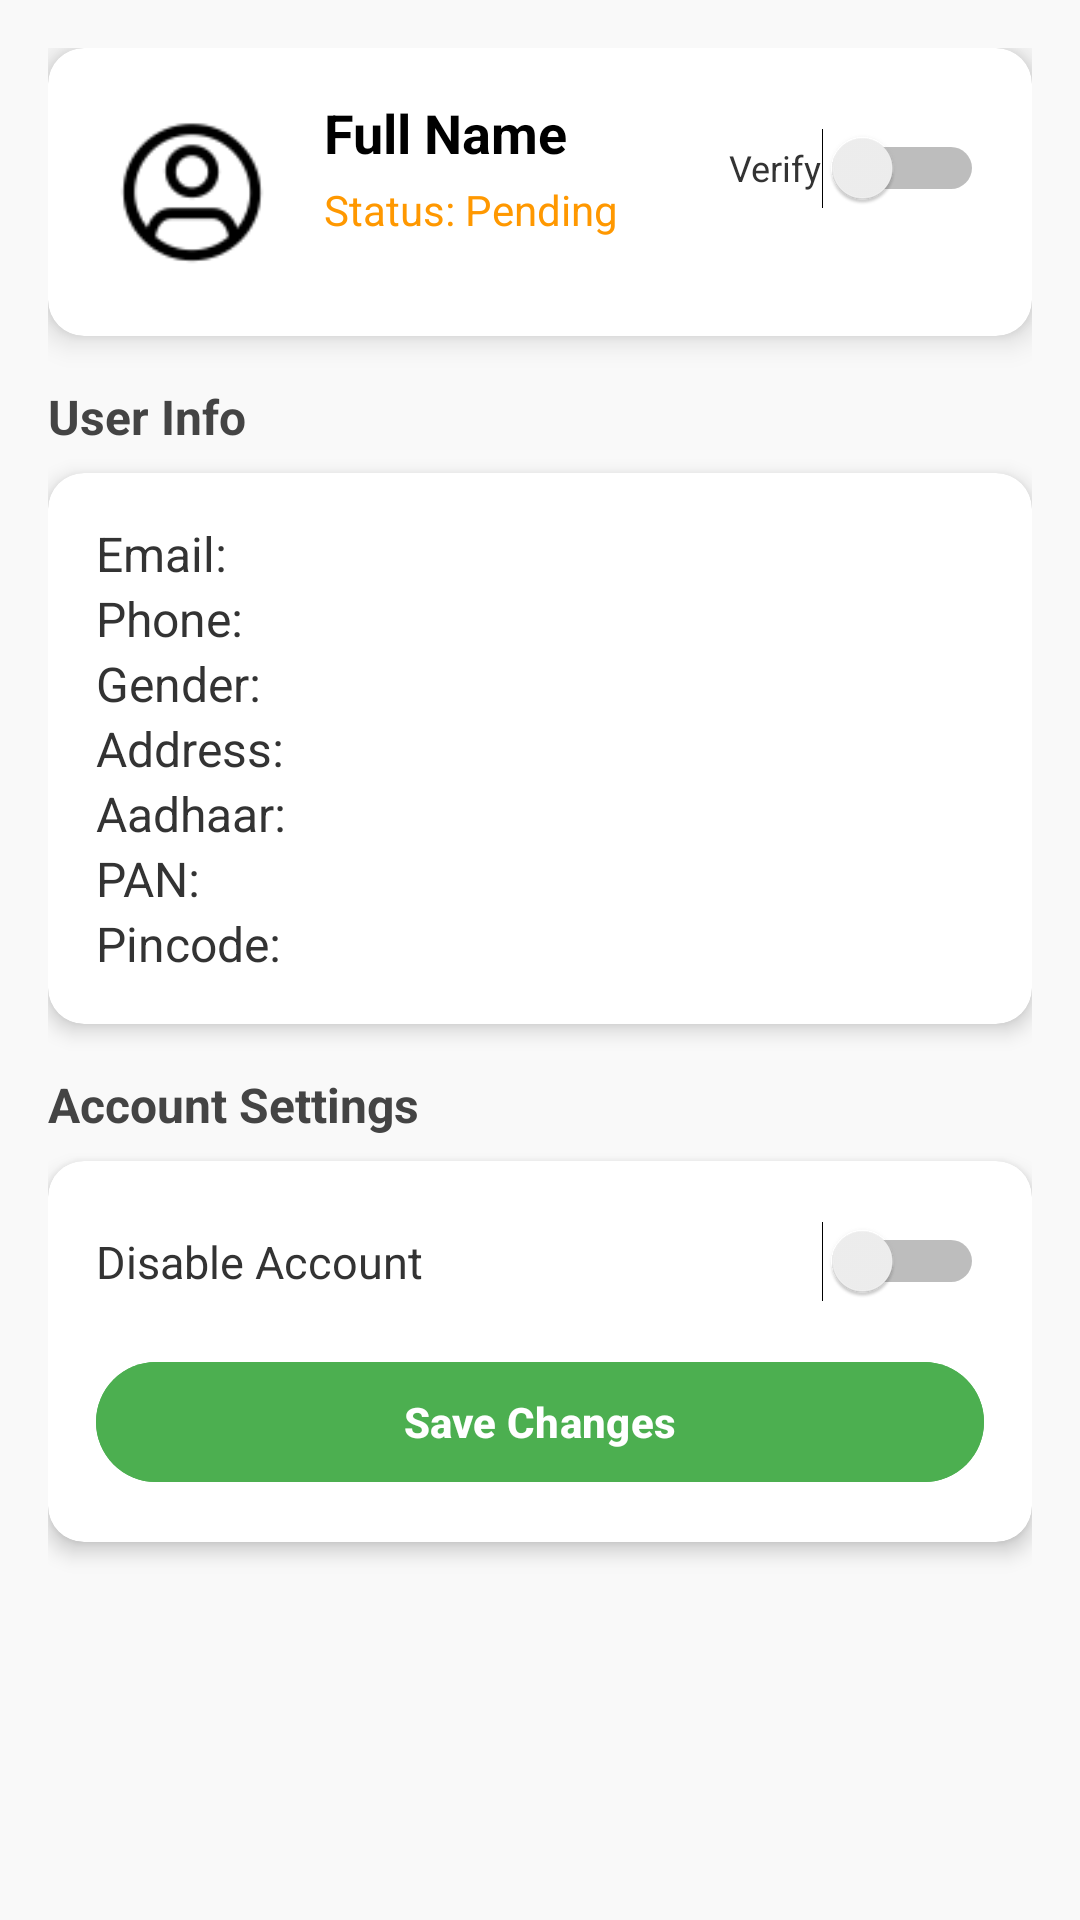

Locate icon controls on the screen. Image size 1080px x 1920px, boxes as [x1,y1,x2,y2].
profile: [122,123,262,262]
